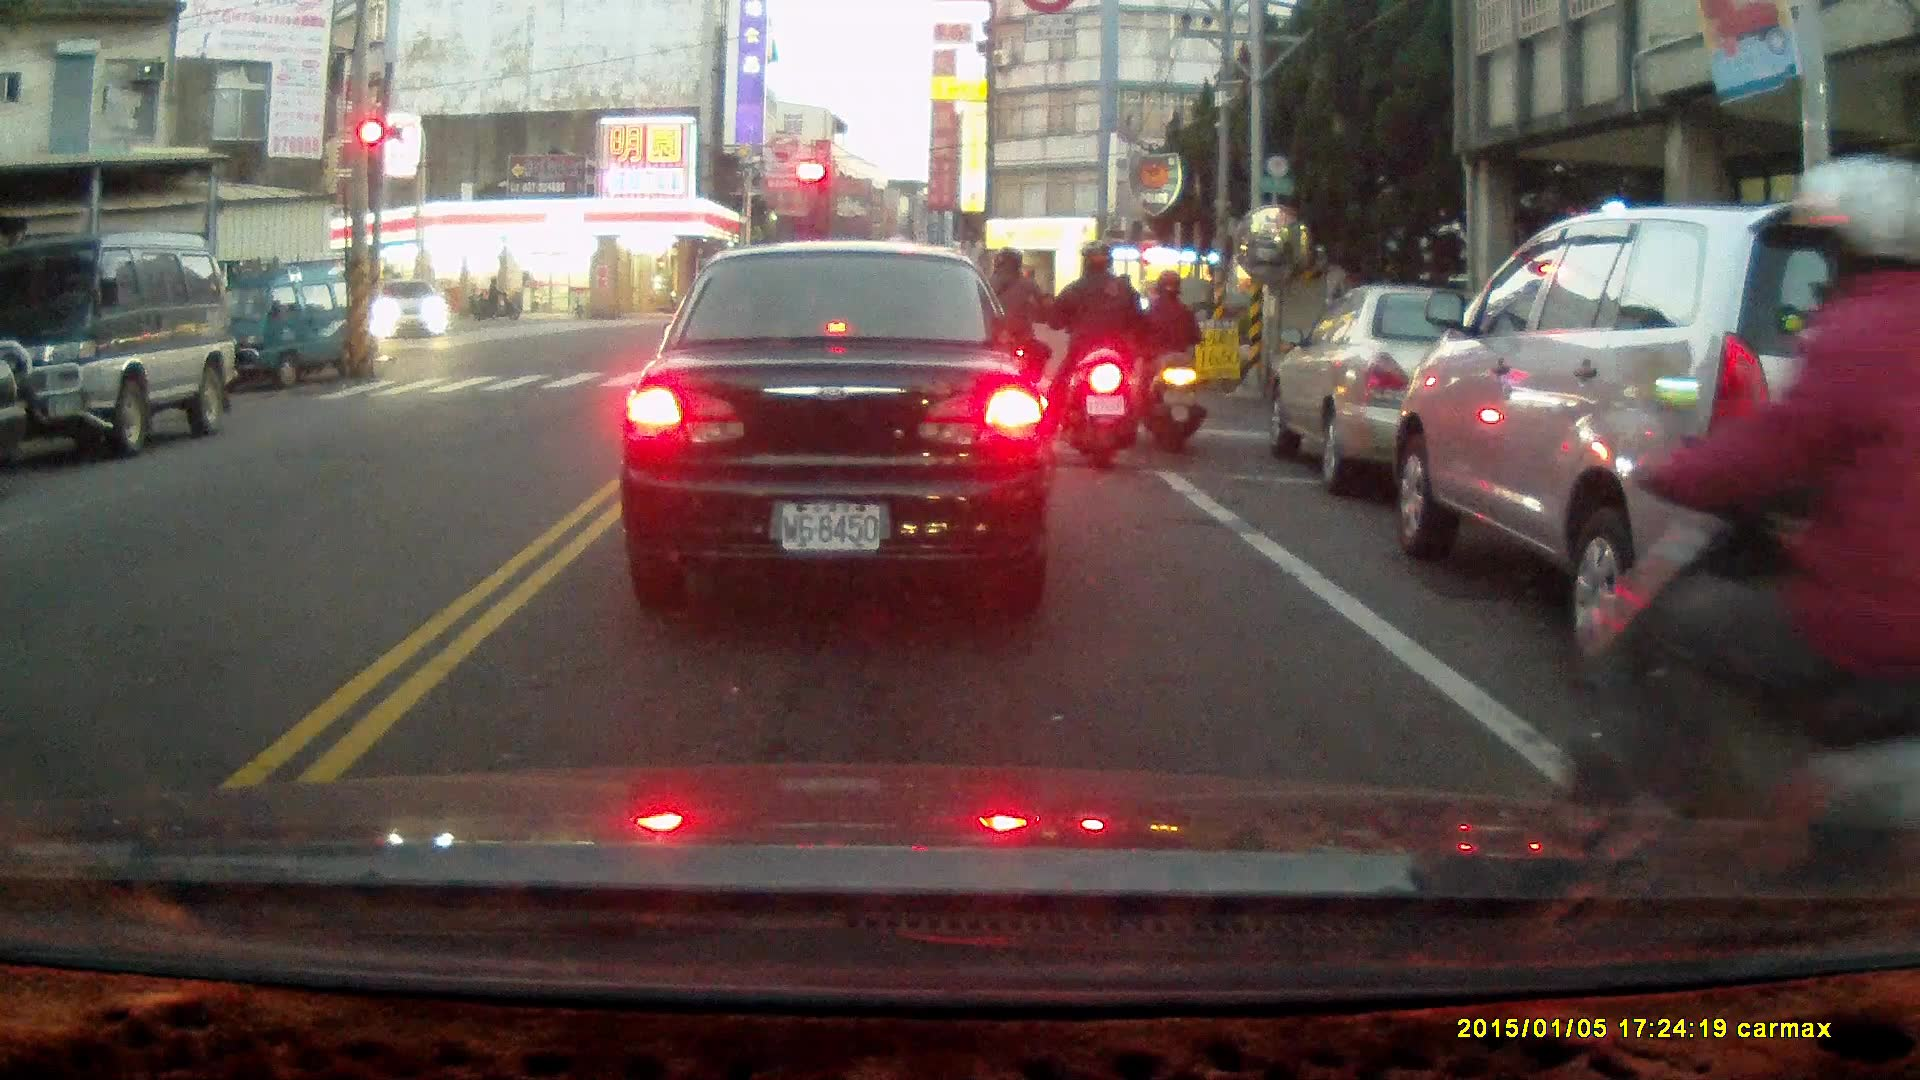rider: (1552, 152, 1920, 890), (1048, 242, 1141, 468), (960, 240, 1056, 430), (1135, 270, 1205, 451), (472, 278, 515, 318)
vehicle: (1390, 205, 1914, 700), (617, 243, 1061, 606), (1269, 285, 1579, 496), (1, 234, 239, 458), (192, 257, 378, 393), (372, 277, 451, 343)
